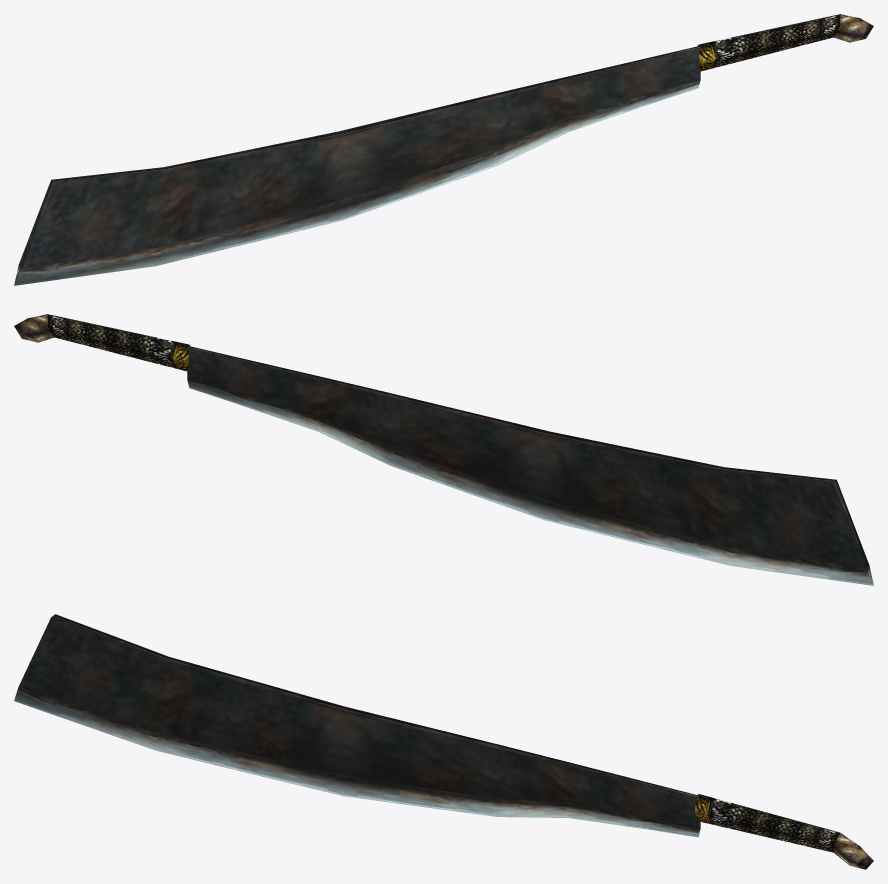
3 renders of one model, top to bottom at view 1: azimuth 30°, elevation 25°; view 2: azimuth 150°, elevation 25°; view 3: azimuth 330°, elevation 25°, orthographic.
Visible parts, largest first — view 1: KLINGE; view 2: KLINGE; view 3: KLINGE.
Part boxes in pixels (x1,y1,x2,y2): KLINGE: [14, 14, 873, 285]; KLINGE: [14, 314, 873, 585]; KLINGE: [14, 614, 873, 869].
Bounding box in the file's own units: 138 × 16.8 × 2.97.
